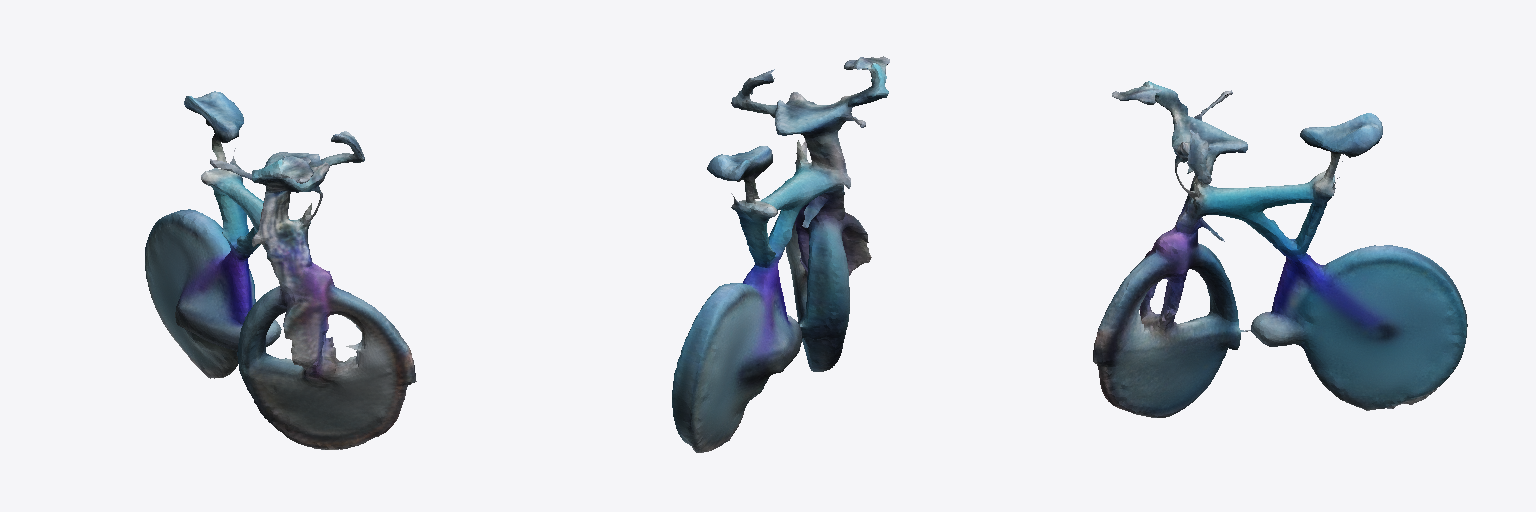
3 renders of one model, left to right at view 1: azimuth 30°, elevation 25°; view 2: azimuth 150°, elevation 25°; view 3: azimuth 270°, elevation 25°, orthographic.
Bounding box in the file's own units: 0.4153 × 0.8643 × 0.9496.
1 materials, 1 textured.